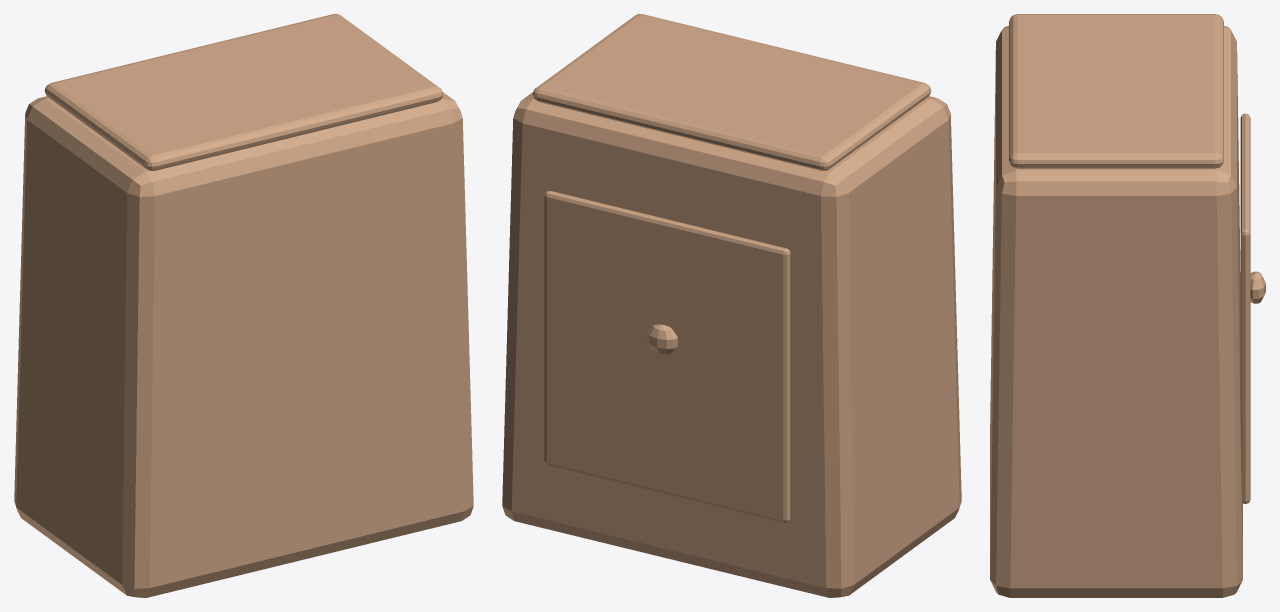
File: Cupboard.fbx
3 renders of one model, left to right at view 1: azimuth 30°, elevation 25°; view 2: azimuth 150°, elevation 25°; view 3: azimuth 270°, elevation 25°, orthographic.
Visible parts, largest first — view 1: Cupboard; view 2: Cupboard; view 3: Cupboard.
Part boxes in pixels (box(x1,y1,x2,y2)): Cupboard: box(14, 14, 473, 597); Cupboard: box(502, 14, 961, 597); Cupboard: box(990, 14, 1265, 597).
Bounding box in the file's own units: 0.7578 × 0.9016 × 0.5168.
